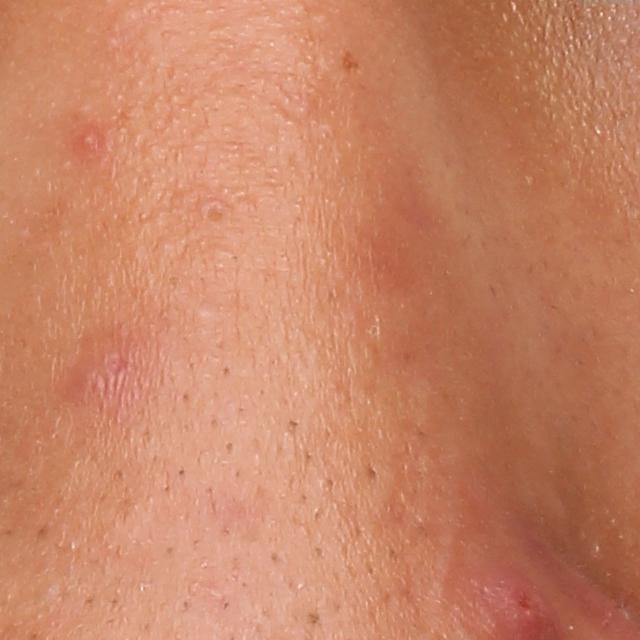comedo: (202, 199, 226, 224)
nevus: (336, 44, 365, 82)
